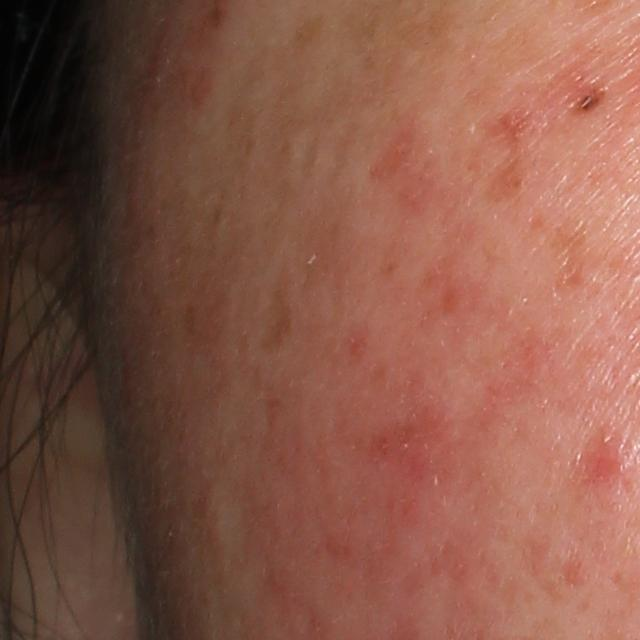melasma: (479, 158, 532, 212)
nevus: (569, 83, 614, 112)
papule: (588, 433, 629, 490)
